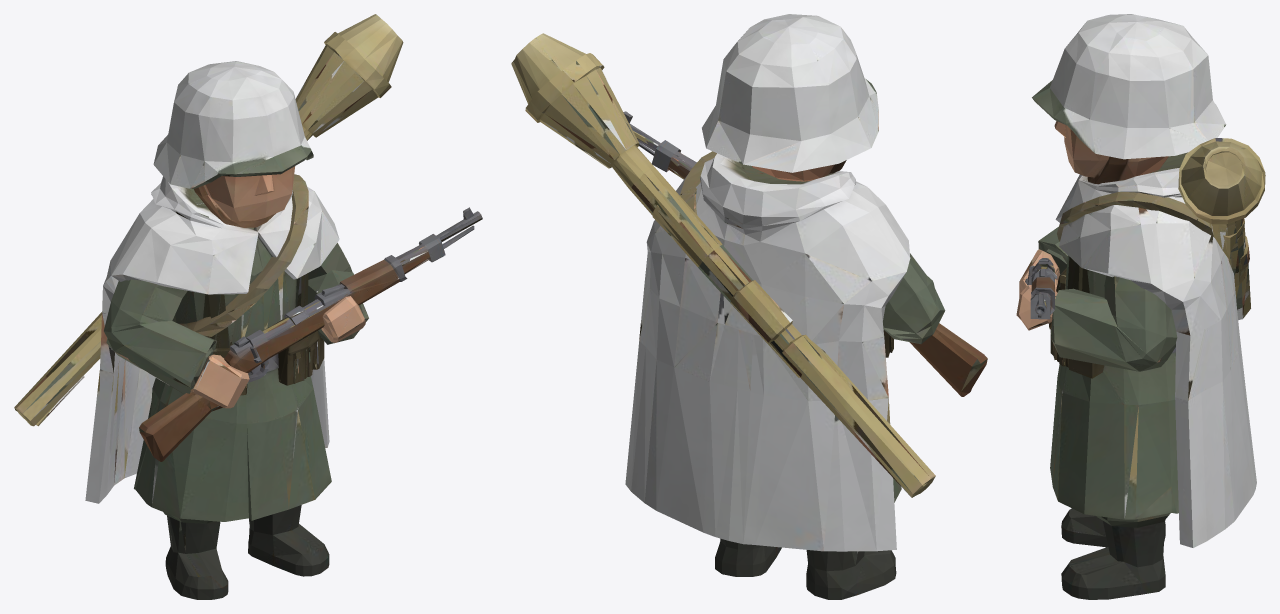
The model's file is bulge_german_inf_0.glb.
3 views of the same model, side by side, from view 1: azimuth 30°, elevation 25°; view 2: azimuth 150°, elevation 25°; view 3: azimuth 270°, elevation 25° (orthographic). The views are drawn at different scales.
Parts seen in each view (by area): view 1: geometry_0; view 2: geometry_0; view 3: geometry_0.
Boxes of the visible parts, x1,y1,x2,y2 form: geometry_0: [14, 14, 482, 599]; geometry_0: [511, 14, 987, 599]; geometry_0: [1016, 14, 1265, 599].
Bounding box in the file's own units: 0.2594 × 0.324 × 0.1353.
1 material, 1 textured.
